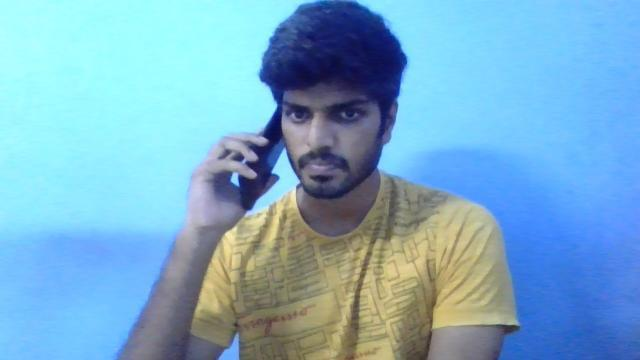PhoneUse: (229, 105, 283, 200)
SafeDriving: (276, 90, 320, 126), (327, 98, 373, 126)
